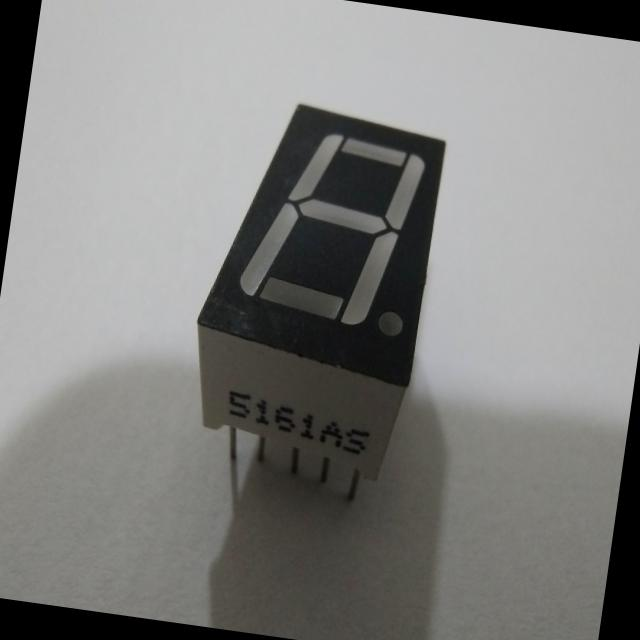7_segments: (165, 85, 472, 519)
